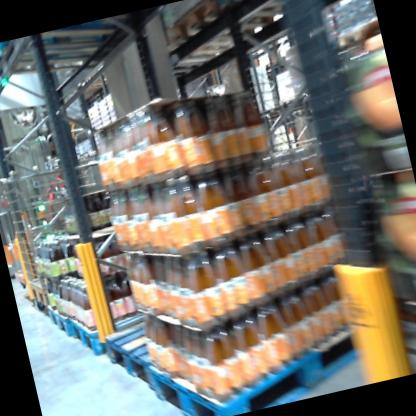pallet: (143, 285, 411, 416), (95, 296, 226, 414), (0, 14, 146, 93), (63, 287, 185, 367), (165, 0, 302, 68), (335, 16, 382, 52), (45, 302, 72, 343), (22, 273, 50, 308)
pallet_truck: (0, 121, 58, 287)
